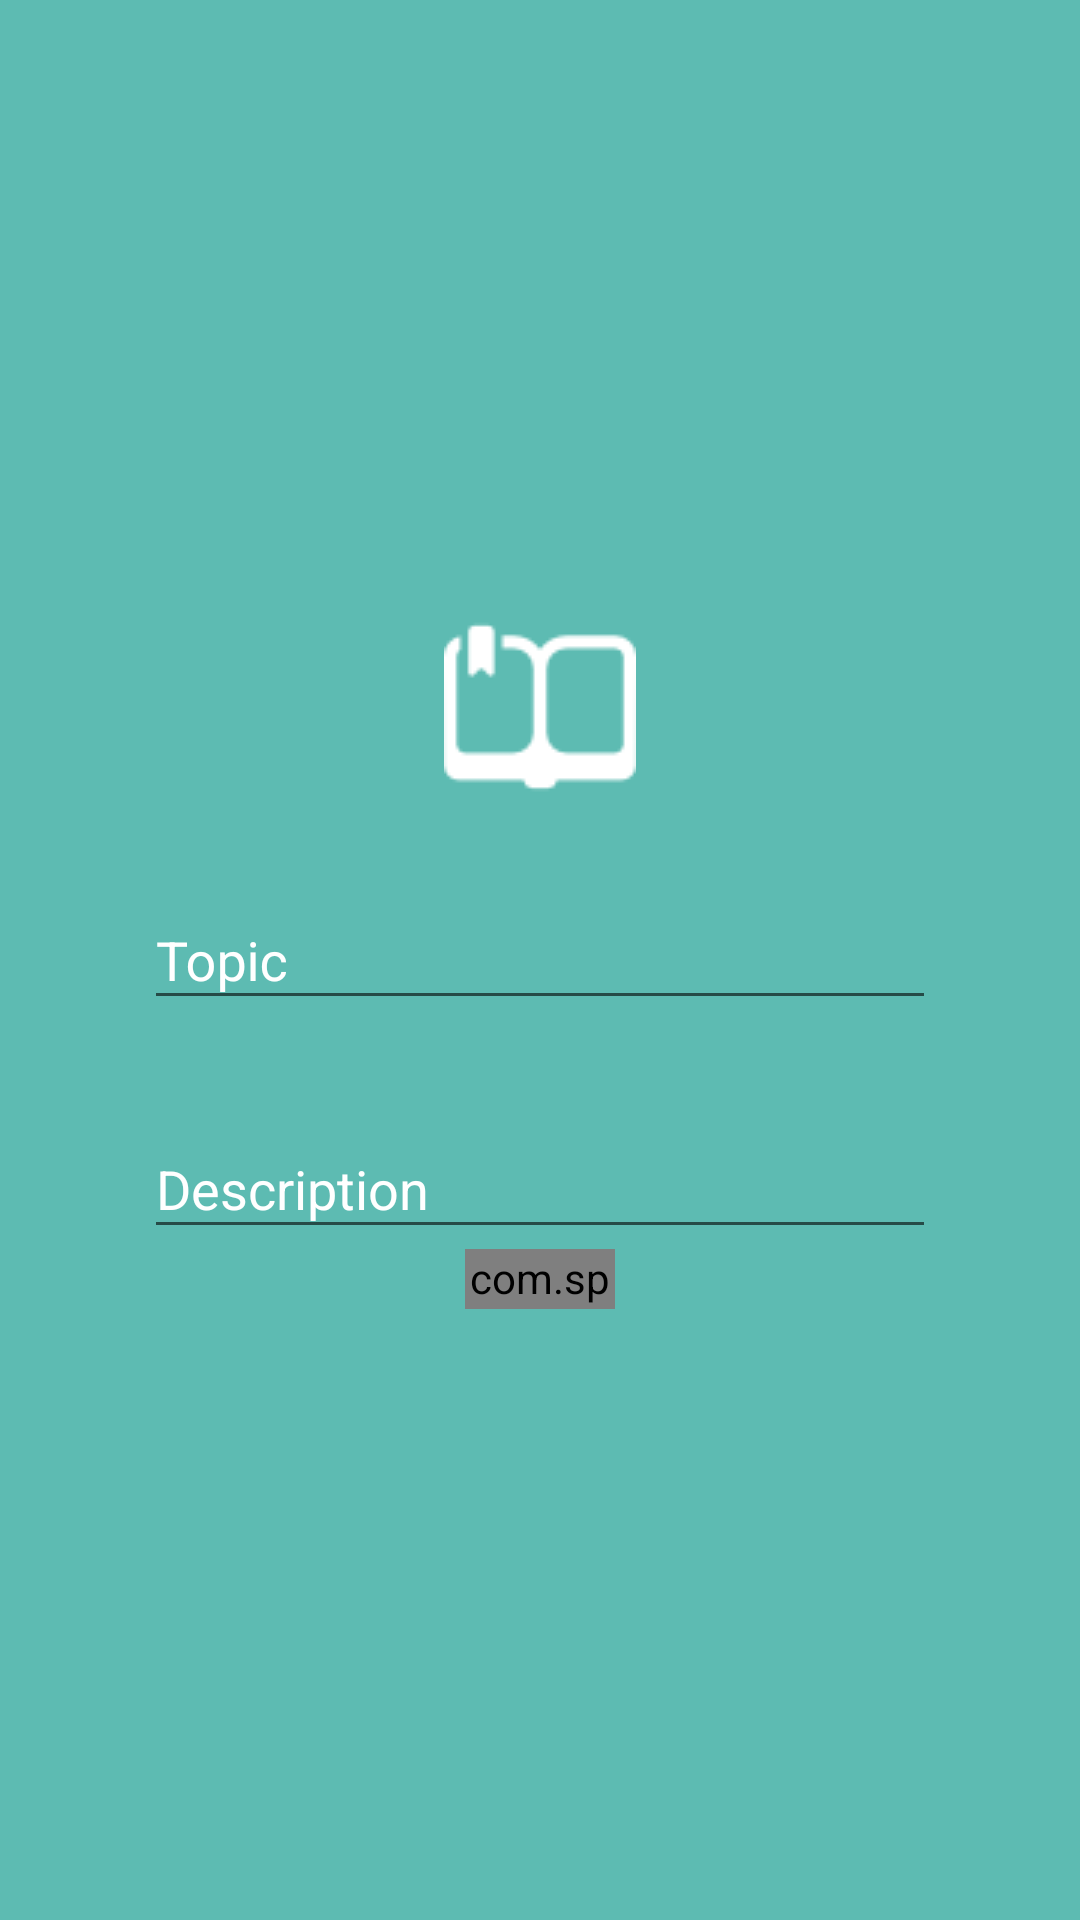

Screen size 1080 × 1920. Icon name, then its box in pixels as (x1, y1, x2, y2):
notes mark: (444, 625, 636, 789)
